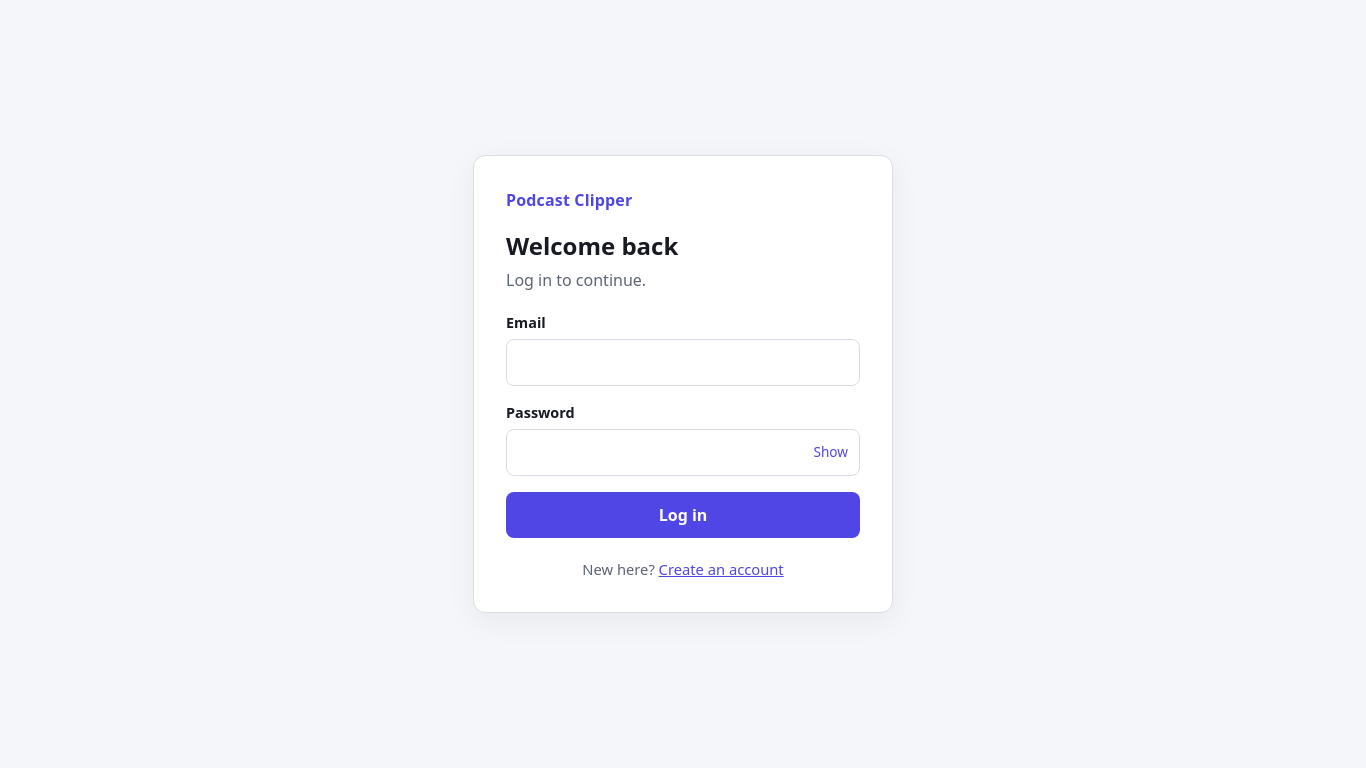
Test: login and logout › logs in, normalizes the email, and opens the dashboard
Step 1. Type "  MUNEEB@Example.com " into the field labelled "Email" → (683, 362), box [506,339,860,386]
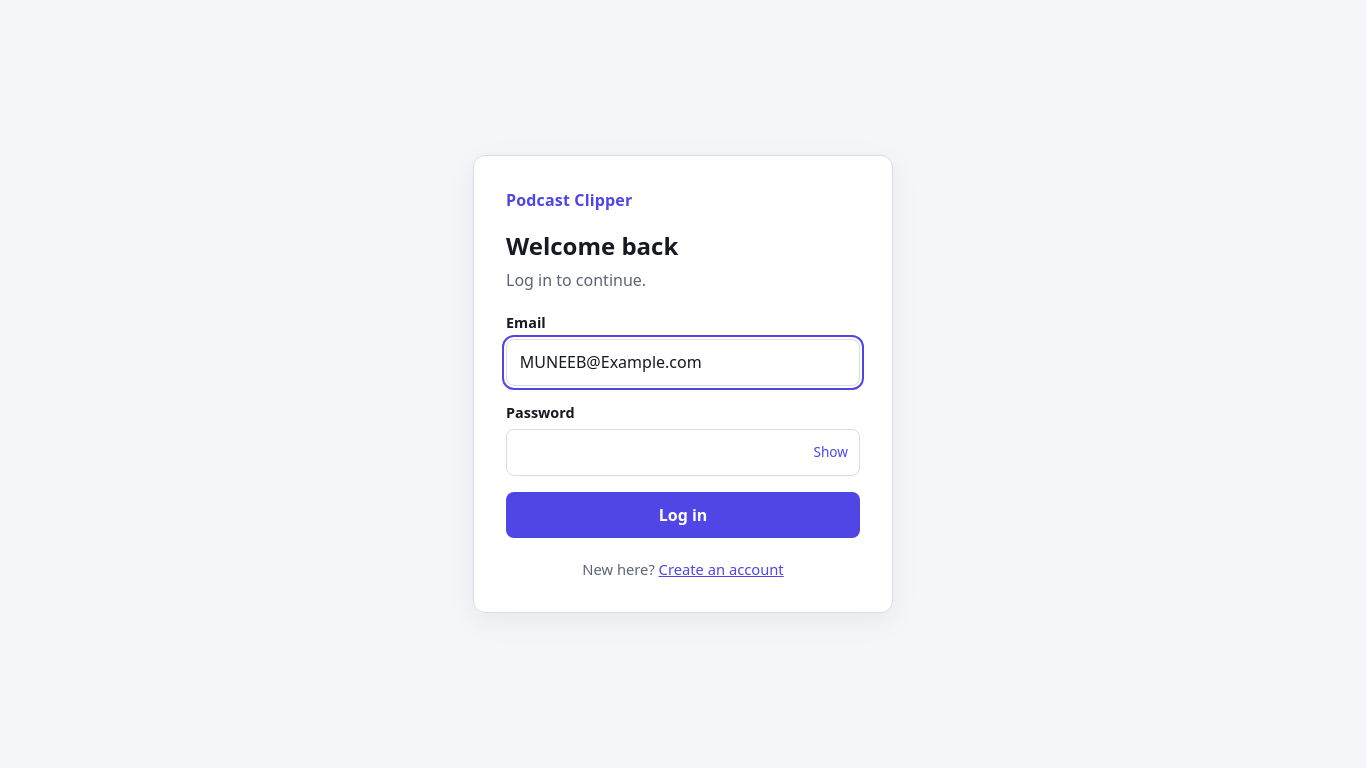
Step 2. Type "Str0ngPass!" into the password field labelled "Password" → (683, 452), box [506,429,860,476]
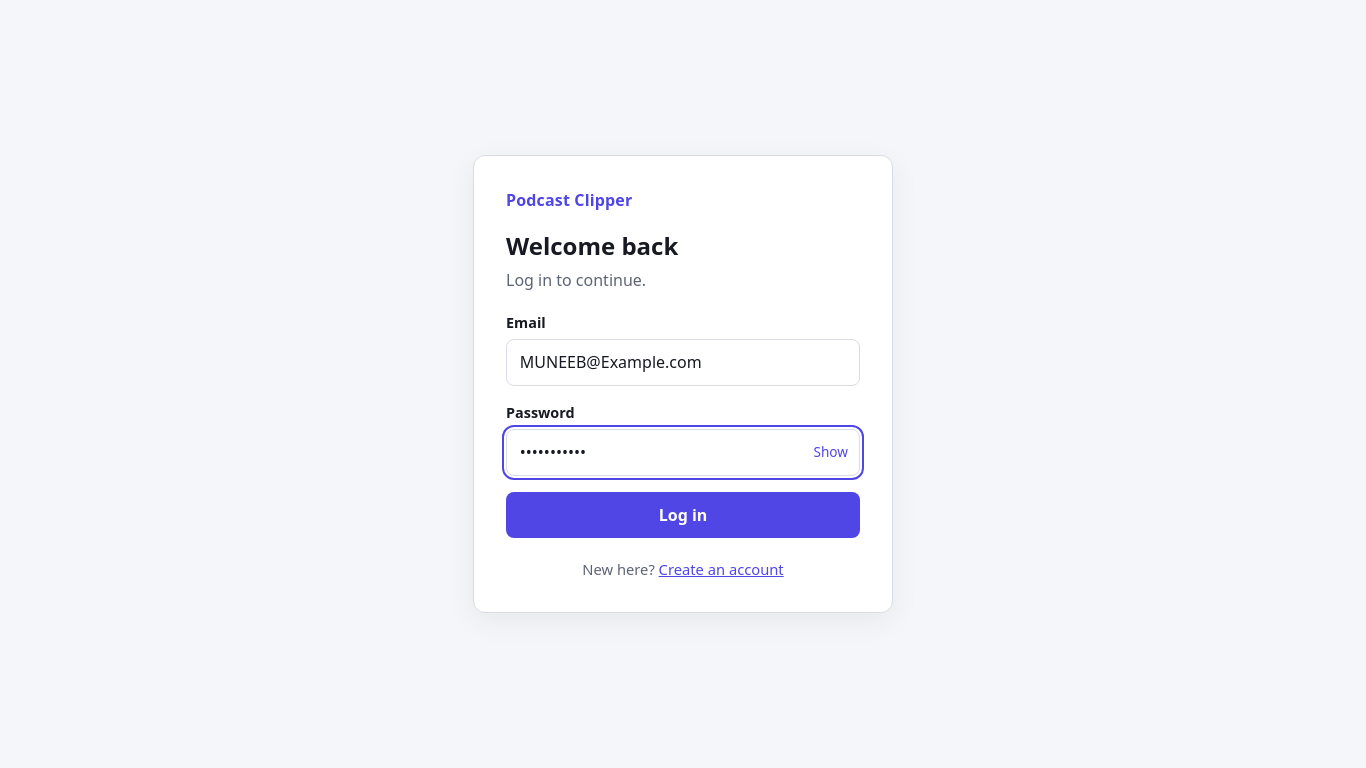
Step 3. Click the button "Log in" → (683, 515), box [506,492,860,538]
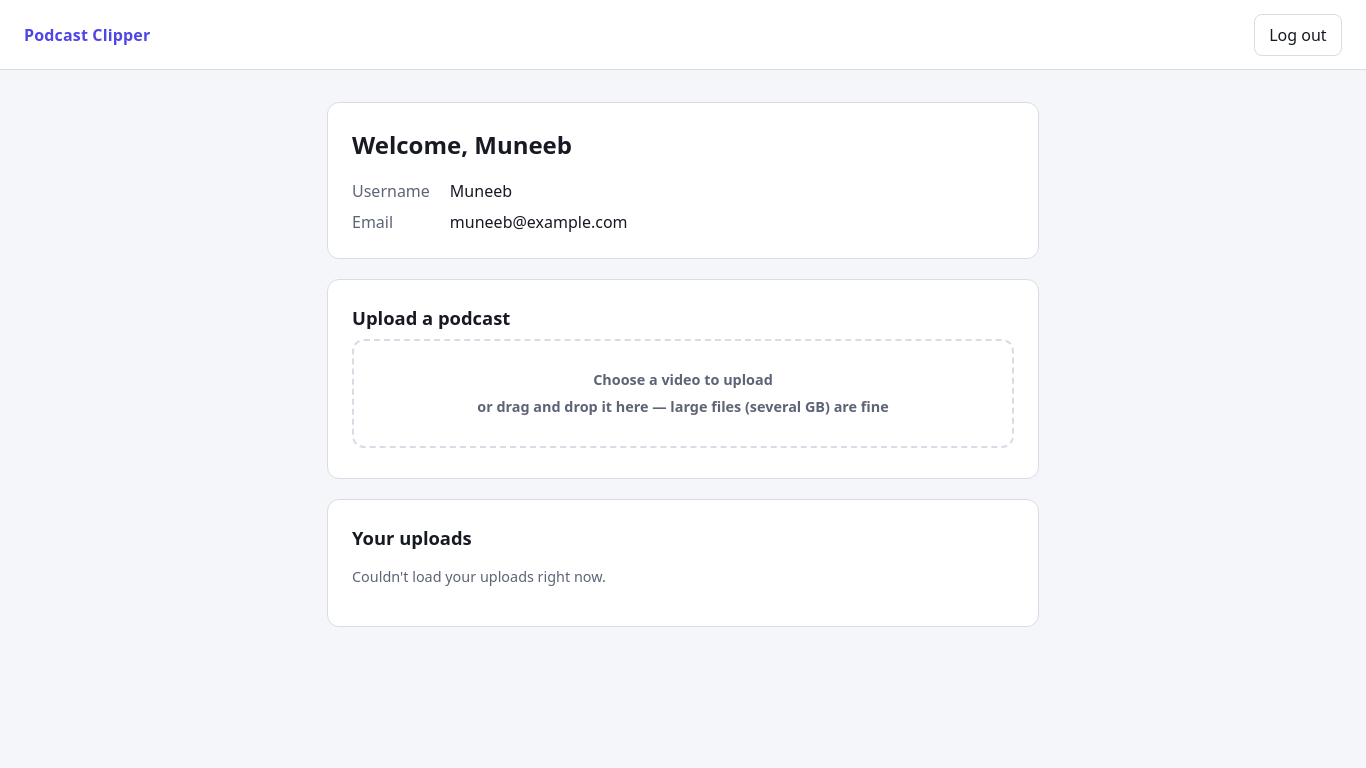
Result: the heading "Welcome, Muneeb" is shown at [352,128,572,161]
